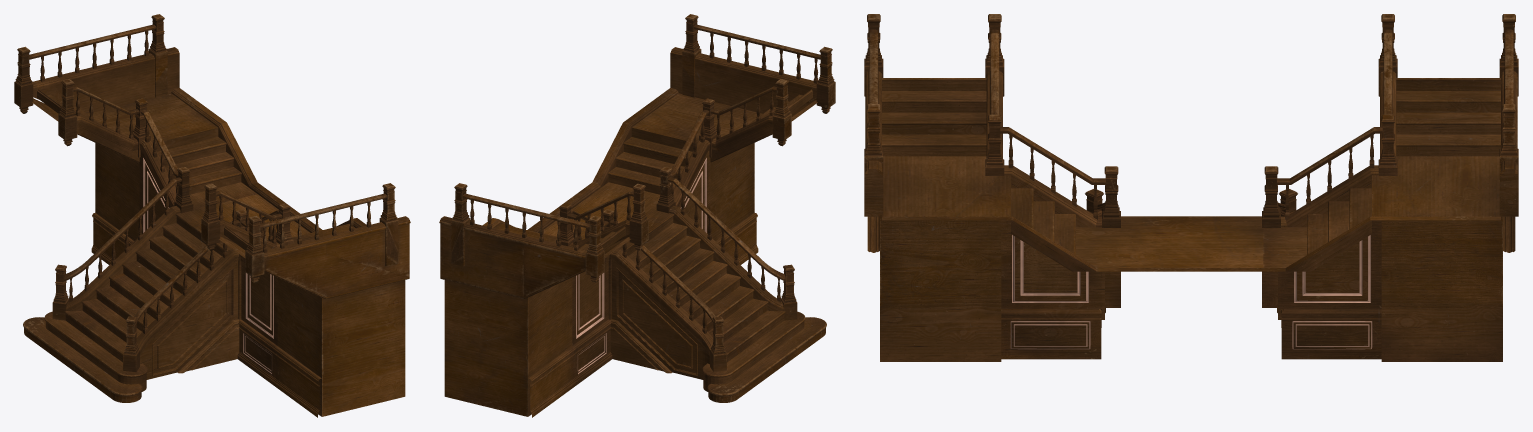
Rendered from wooden_stairs.glb.
3 views of the same model, side by side, from view 1: azimuth 30°, elevation 25°; view 2: azimuth 150°, elevation 25°; view 3: azimuth 270°, elevation 25° (orthographic). The views are drawn at different scales.
Parts seen in each view (by area): view 1: model_obj; view 2: model_obj; view 3: model_obj.
Boxes of the visible parts, x1=… form: model_obj: x1=14, y1=14, x2=410, y2=417; model_obj: x1=439, y1=14, x2=835, y2=417; model_obj: x1=864, y1=14, x2=1518, y2=361.
Size of the model in its own units: 5.72 by 5.32 by 10.55.
2 materials, 2 textured.
